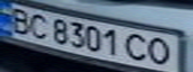0: (84, 24, 103, 53)
1: (100, 27, 124, 57)
3: (66, 20, 87, 50)
8: (48, 16, 72, 46)
B: (3, 5, 36, 35)
C: (24, 11, 54, 39)
I: (166, 37, 193, 71)
O: (145, 35, 175, 68)
